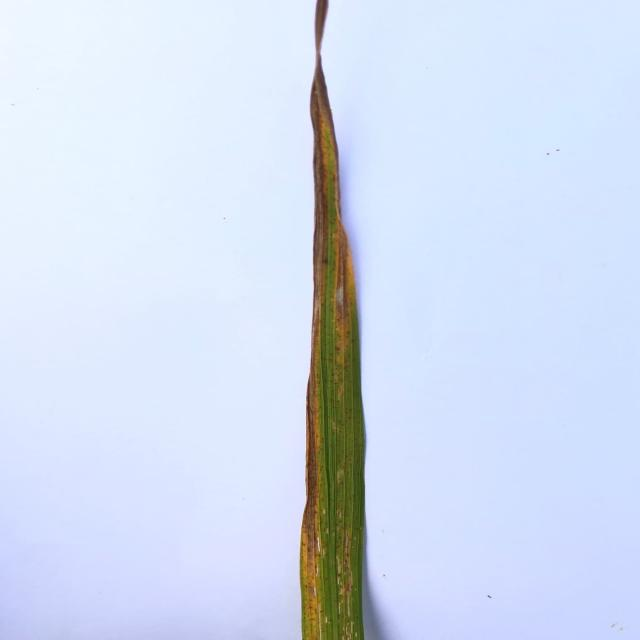tungro: (299, 57, 324, 640), (330, 188, 359, 404)
